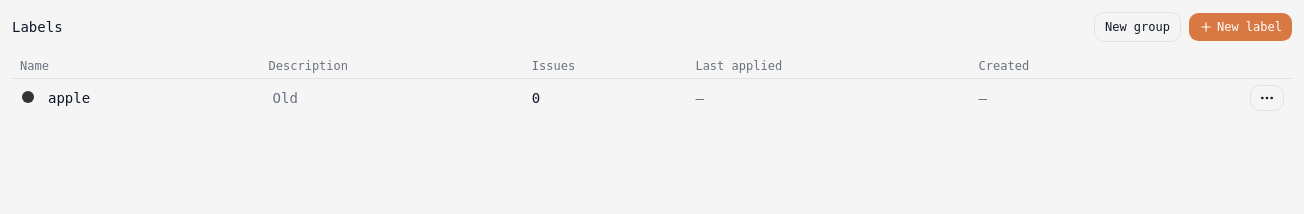
Test: labels settings › menu Rename opens the inline name input
This screenshot has width=1304, height=214.
Check: the text "apple" is shown, box [48,90,90,106]
Click the button named "Actions for apple" at (1267, 98), box [1250,85,1284,111]
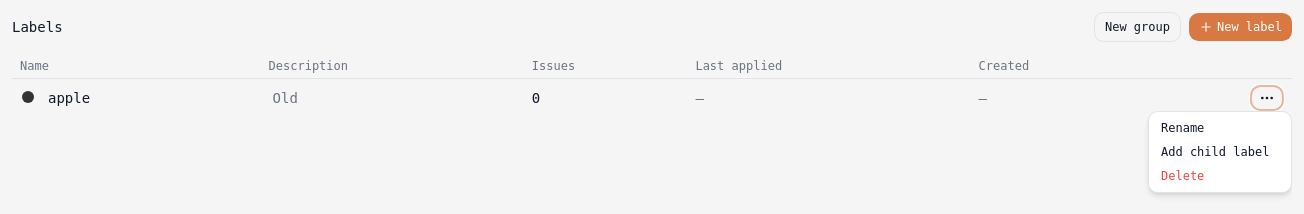
Click the menu item "Rename" at (1220, 128), box [1153,116,1287,140]
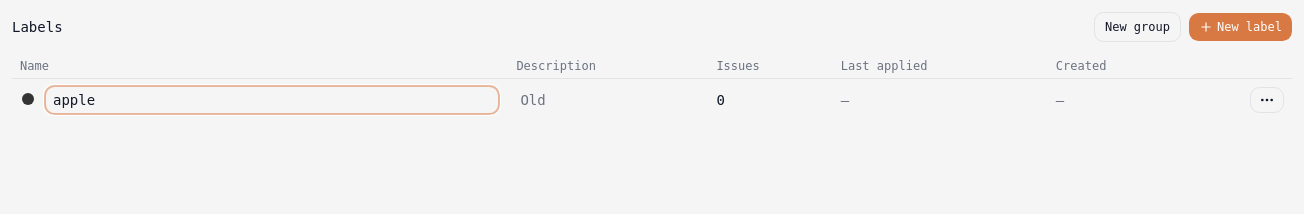
Check: the field named "Label name" holds "apple"
Replace the text in the field named "Label name" with "apricot" at (272, 100), box [44,85,500,115]
Then press Enter
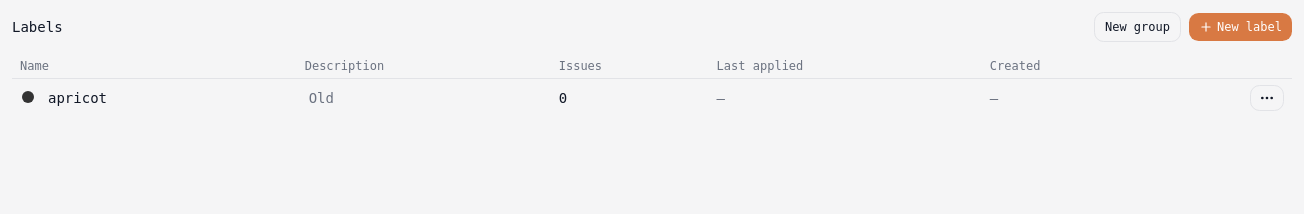
Check: the text "apricot" is shown, box [48,90,107,106]
